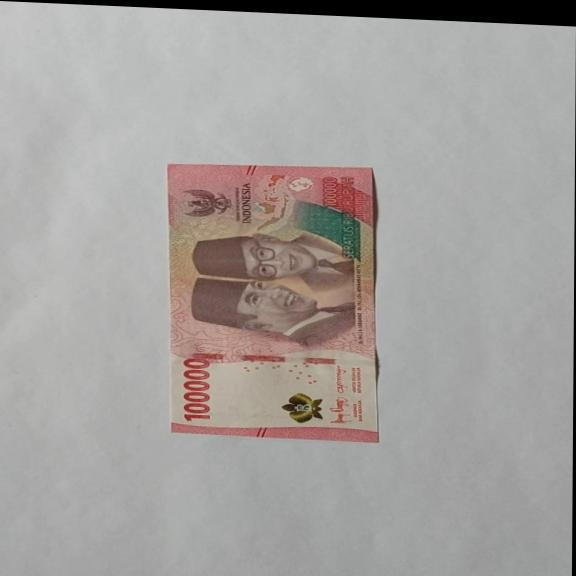Kertas: (163, 157, 381, 443), (179, 355, 213, 423)
